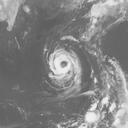cyclone: (47, 49, 82, 88)
